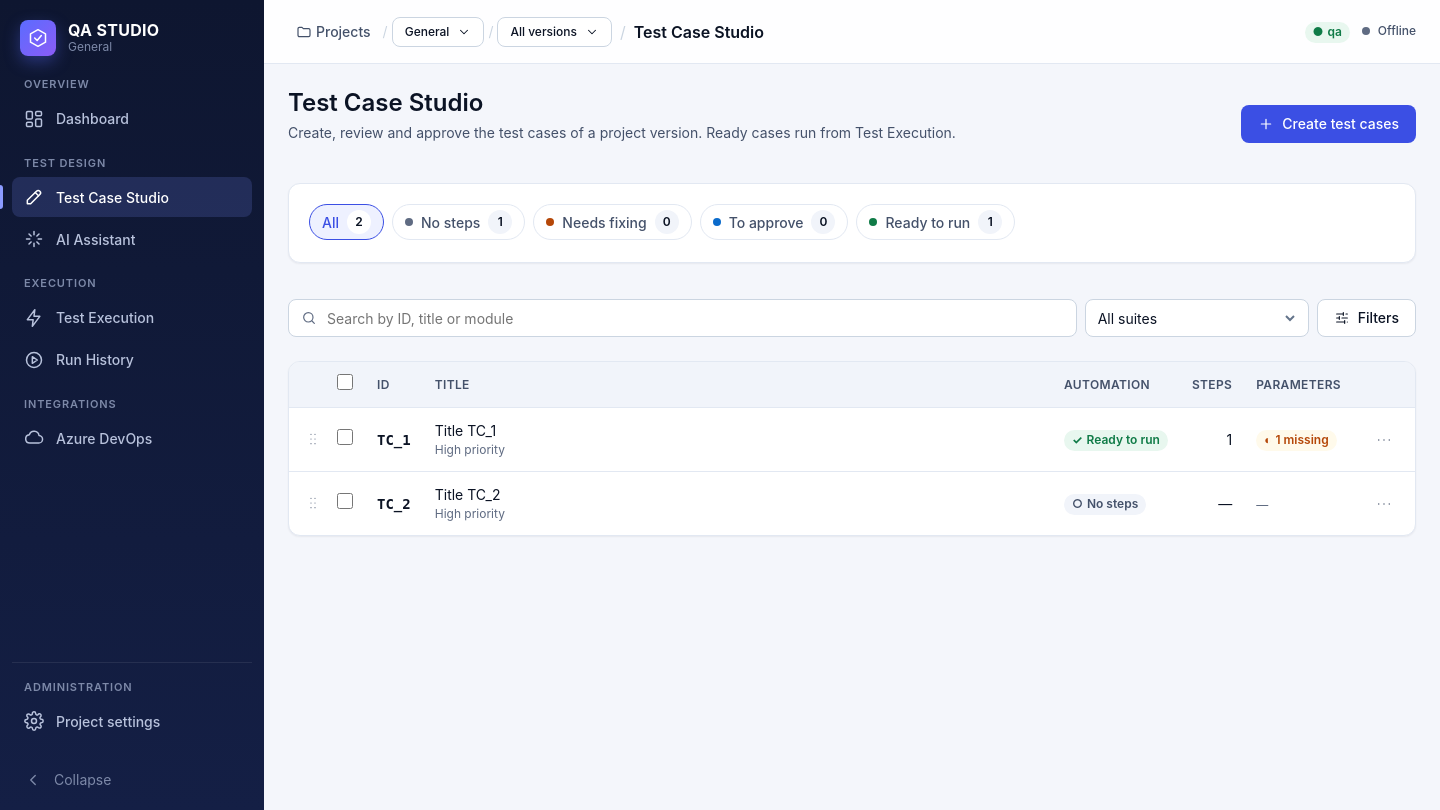
Test: app shell › switches the version for every page from the header, like a branch
Click the button with aria-label "Switch version".
click(555, 32)  # box [497,16,612,46]
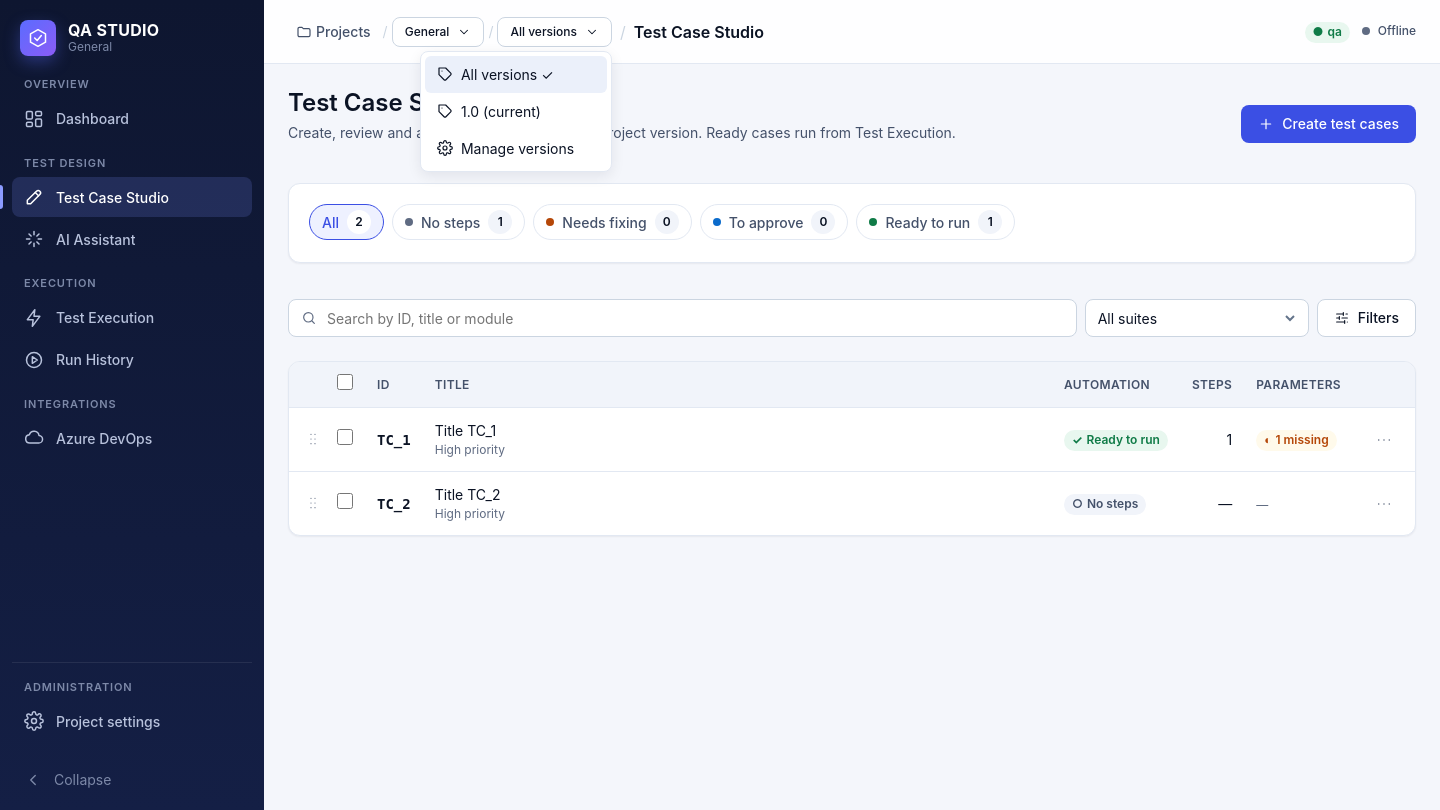
Click the menu item "1.0 (current)".
click(516, 111)  # box [425,92,607,130]
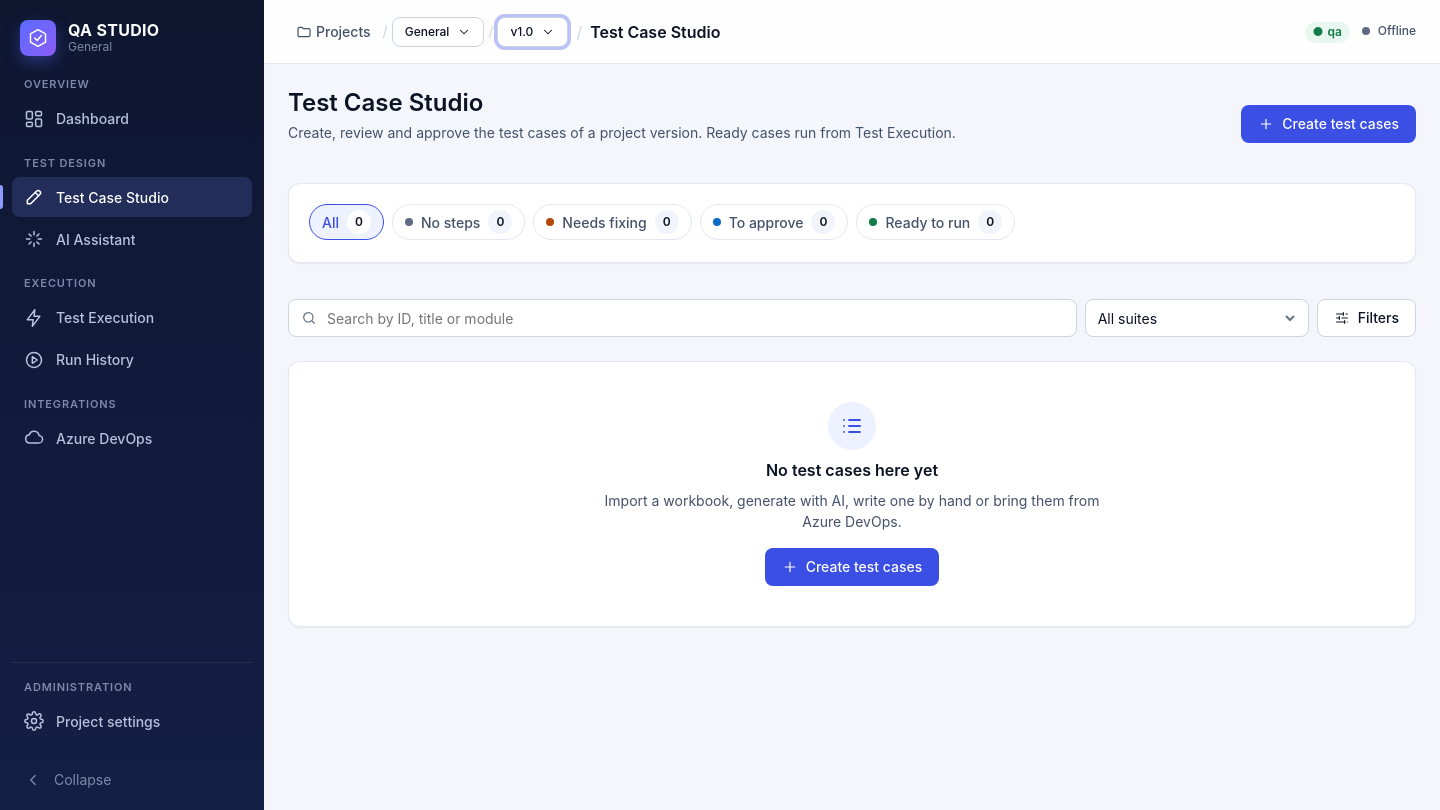
Now the button named "Version: 1.0. Switch version" is shown, box [497,16,568,46]
